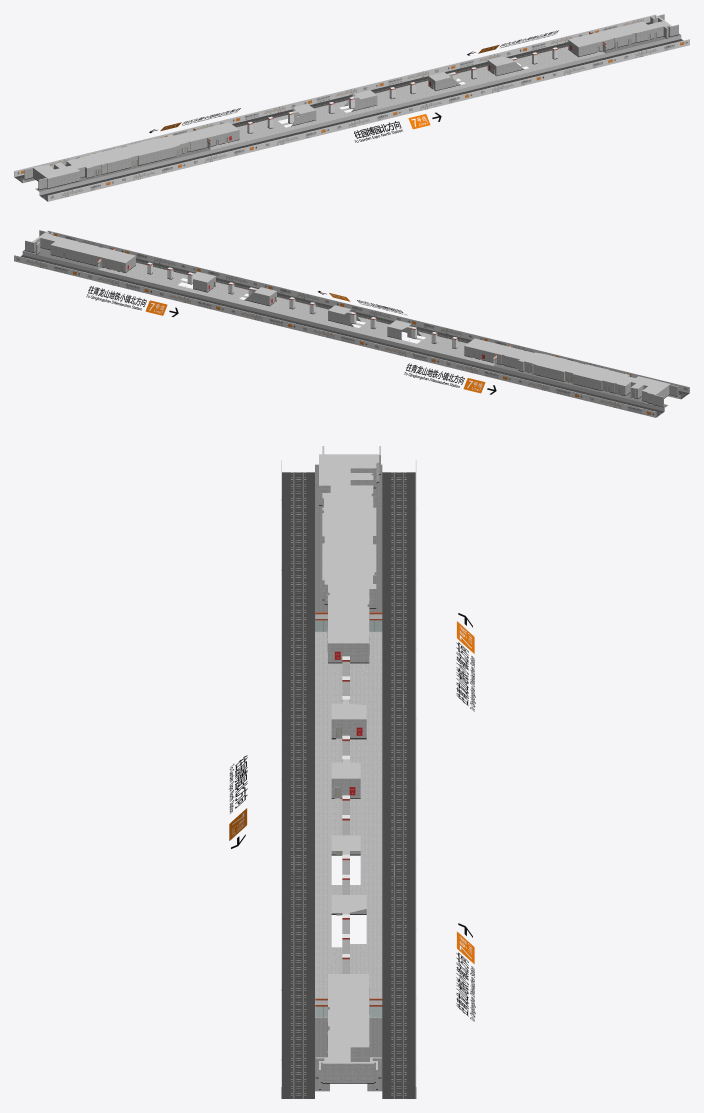
The picture shows the model from 3 angles, top to bottom: view 1: azimuth 30°, elevation 25°; view 2: azimuth 150°, elevation 25°; view 3: azimuth 270°, elevation 25°; orthographic projection. The views are drawn at different scales.
Visible parts, largest first — view 1: Object001, Object034, road-b2-2, Object031, Object036, Object032, Plane002, Object021, road-b2-3, Plane067, Plane069, Plane068; view 2: Object001, Object036, road-b2-2, Object031, Object034, Object032, Plane002, Object021, Plane069, road-b2-3, Plane068; view 3: Object032, road-b2-2, Object031, Object001, road-b2-3, Object021, Object036, Plane068, Plane069, Plane067.
Boxes of the visible parts, box(x1,y1,x2,y2) form: Object001: box(24, 14, 678, 189); Object034: box(47, 39, 689, 201); road-b2-2: box(209, 46, 605, 149); Object031: box(24, 14, 678, 179); Object036: box(14, 14, 656, 177); Object032: box(14, 22, 683, 201); Plane002: box(22, 35, 681, 195); Object021: box(247, 47, 557, 133); road-b2-3: box(23, 33, 680, 191); Plane067: box(354, 112, 441, 142); Plane069: box(467, 30, 558, 55); Plane068: box(149, 108, 240, 133); Object001: box(25, 230, 678, 407); Object036: box(14, 255, 656, 417); road-b2-2: box(98, 262, 495, 365); Object031: box(25, 230, 677, 397); Object034: box(47, 230, 689, 393); Object032: box(21, 255, 689, 417); Plane002: box(22, 251, 681, 411); Object021: box(147, 262, 457, 348); Plane069: box(86, 286, 178, 316); road-b2-3: box(23, 248, 680, 407); Plane068: box(404, 363, 496, 394); Object032: box(282, 472, 415, 1098); road-b2-2: box(315, 631, 382, 1017); Object031: box(315, 446, 381, 1069); Object001: box(315, 455, 381, 1089); road-b2-3: box(315, 464, 382, 1091); Object021: box(342, 656, 349, 973); Object036: box(415, 460, 416, 1098); Plane068: box(456, 613, 475, 711); Plane069: box(456, 923, 475, 1021); Plane067: box(228, 755, 247, 848).
Bounding box in the file's own units: 269 × 9.05 × 48.28.
Materials: 20 (19 with a texture image).
